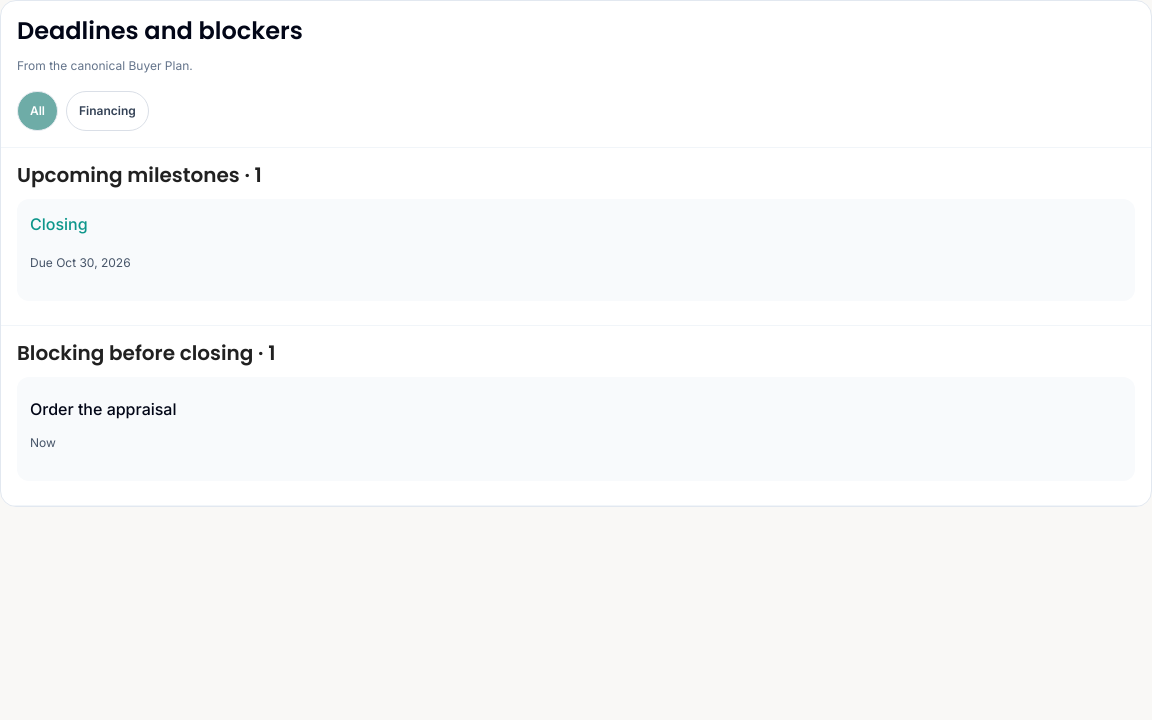
Scenario: a removed task is "no longer exists"; a property access denial redacts
The width and height of the screenshot is (1152, 720).
Click the button "Order the appraisal" at (103, 410), box [30,390,176,430]
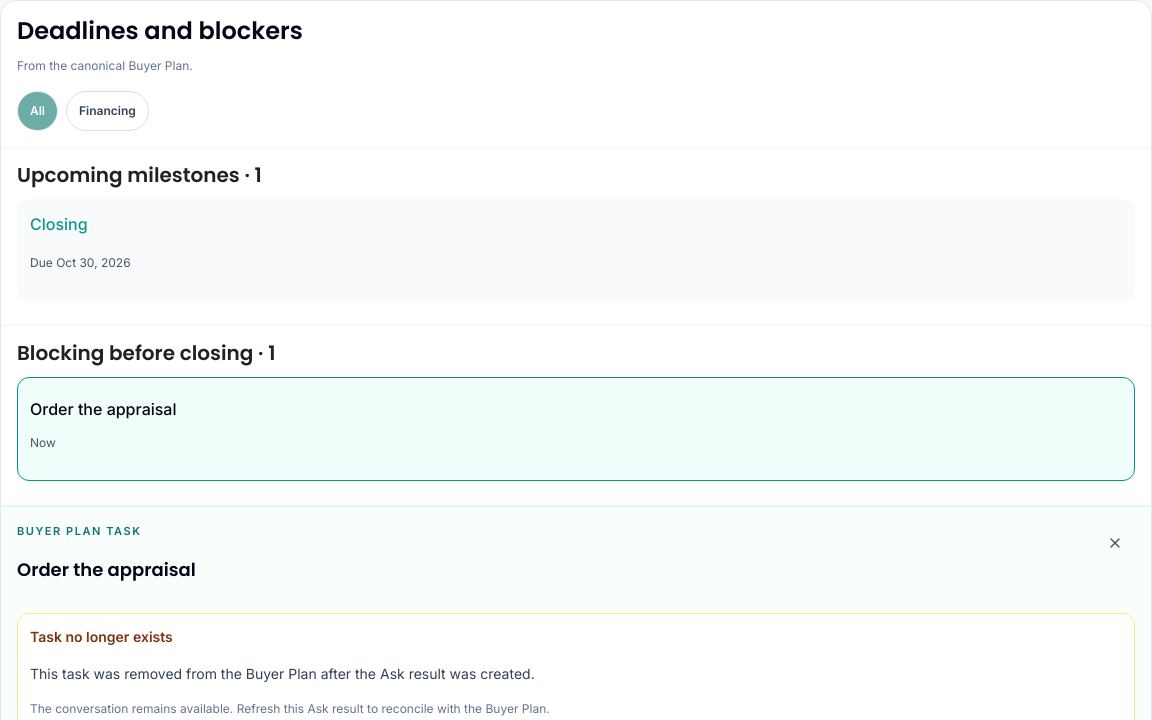
expect the text "Task no longer exists" is shown: met, box [30,628,173,645]
